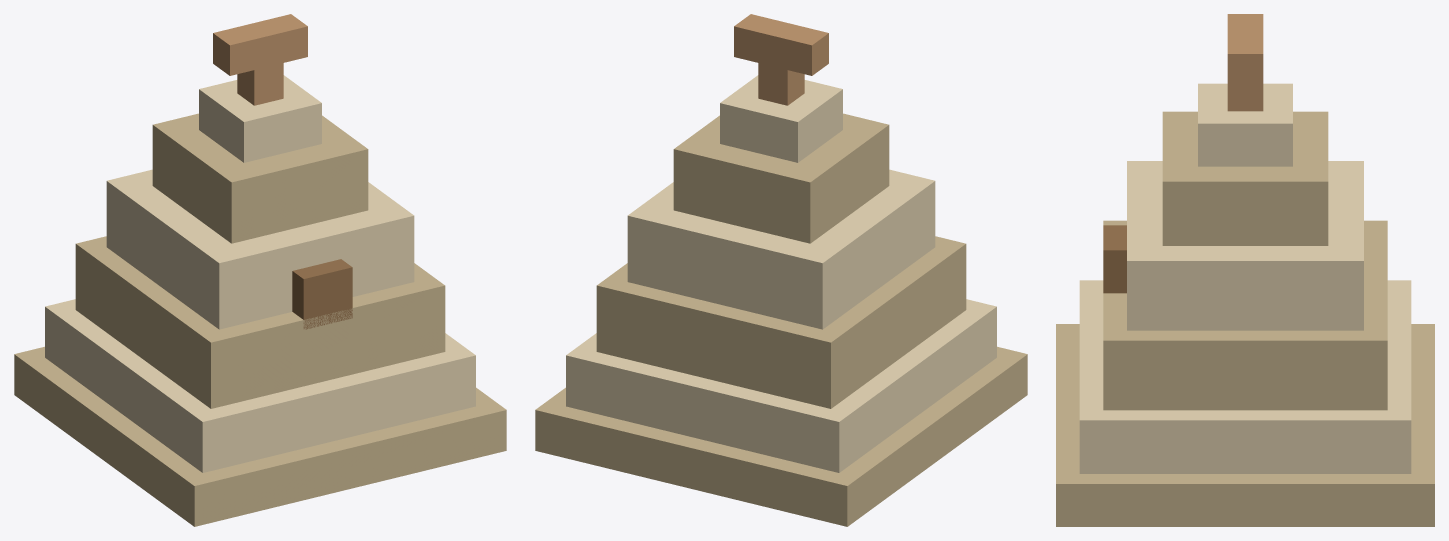
The model's file is built-wasp-nest.glb.
The picture shows the model from 3 angles, left to right: view 1: azimuth 30°, elevation 25°; view 2: azimuth 150°, elevation 25°; view 3: azimuth 270°, elevation 25°; orthographic projection. The views are drawn at different scales.
Parts seen in each view (by area): view 1: built-wasp-nest; view 2: built-wasp-nest; view 3: built-wasp-nest.
Boxes of the visible parts, <box> form: built-wasp-nest: <box>14,14,506,526</box>; built-wasp-nest: <box>535,14,1027,526</box>; built-wasp-nest: <box>1056,14,1434,526</box>.
Bounding box in the file's own units: 0.64 × 0.77 × 0.64.
